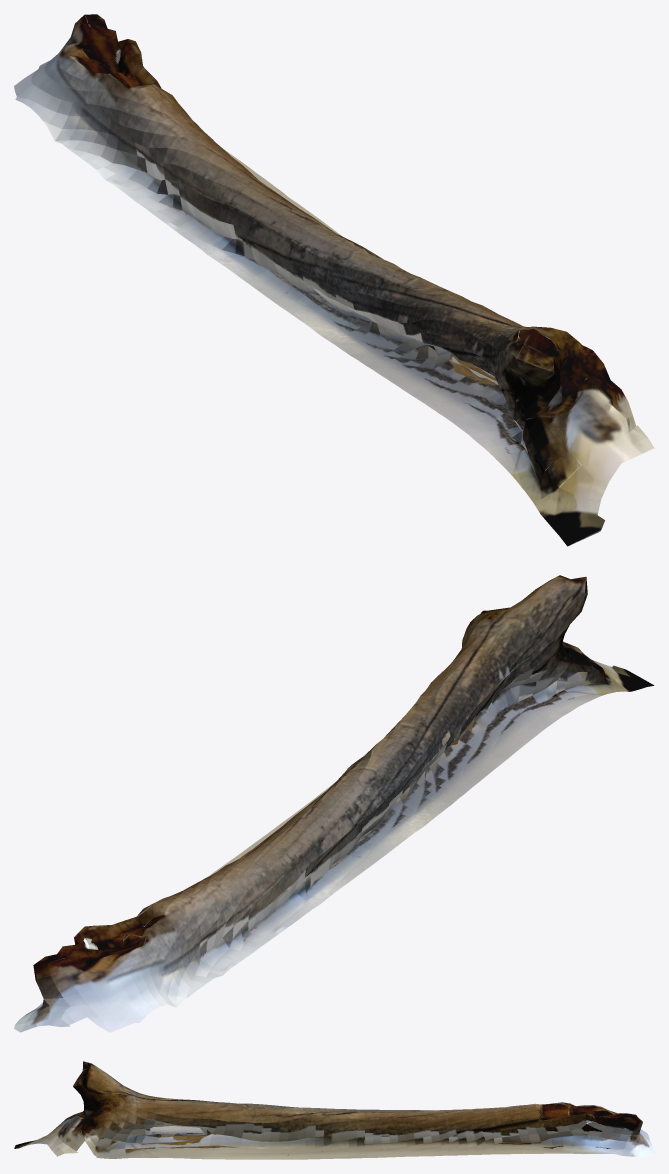
Rendered from Kost_Lowpoly.obj.
The picture shows the model from 3 angles, top to bottom: view 1: azimuth 30°, elevation 25°; view 2: azimuth 150°, elevation 25°; view 3: azimuth 270°, elevation 25°; orthographic projection. The views are drawn at different scales.
Parts seen in each view (by area): view 1: Kost_Lowpoly_model.001; view 2: Kost_Lowpoly_model.001; view 3: Kost_Lowpoly_model.001.
Boxes of the visible parts, x1,y1,x2,y2 form: Kost_Lowpoly_model.001: (14,14,654,546); Kost_Lowpoly_model.001: (14,575,654,1032); Kost_Lowpoly_model.001: (14,1061,654,1159).
Size of the model in its own units: 1.01 by 1.2 by 7.98.
Materials: 1 (1 with a texture image).
